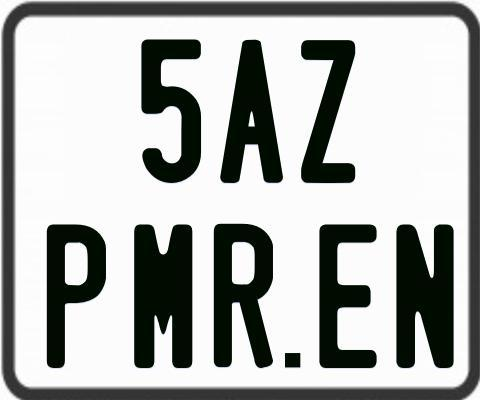5: (140, 37, 200, 187)
A: (219, 38, 287, 185)
E: (318, 222, 377, 369)
M: (134, 222, 192, 370)
N: (396, 224, 458, 368)
P: (47, 222, 106, 368)
R: (212, 223, 277, 371)
Z: (301, 40, 359, 188)
